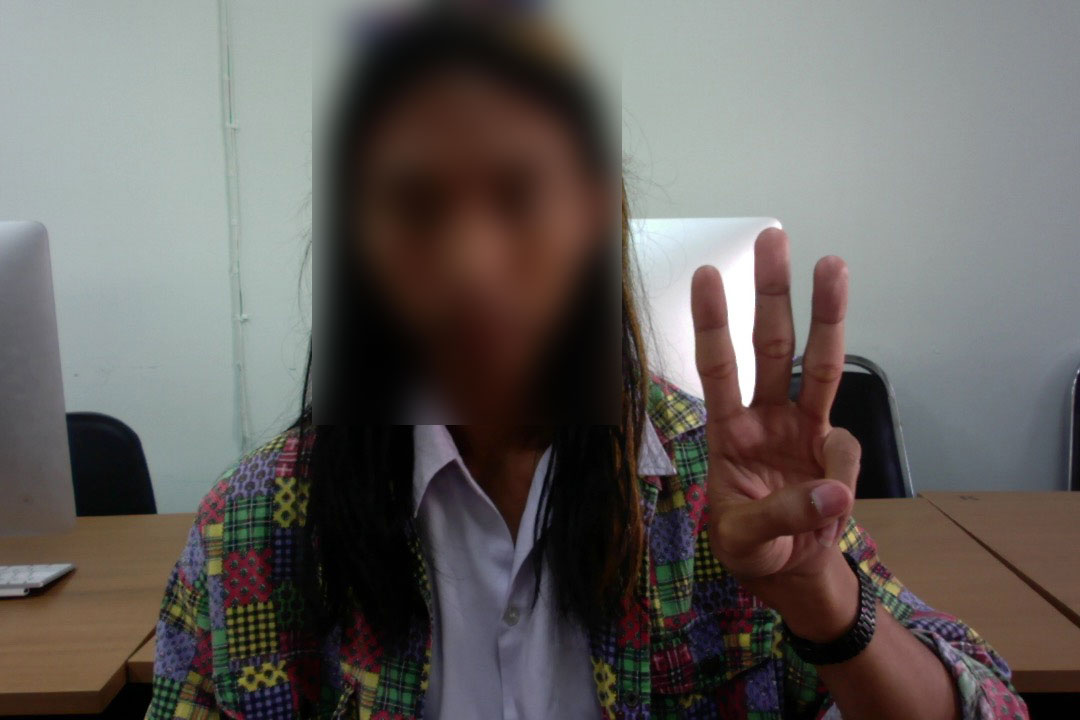wor: (672, 225, 896, 599)
